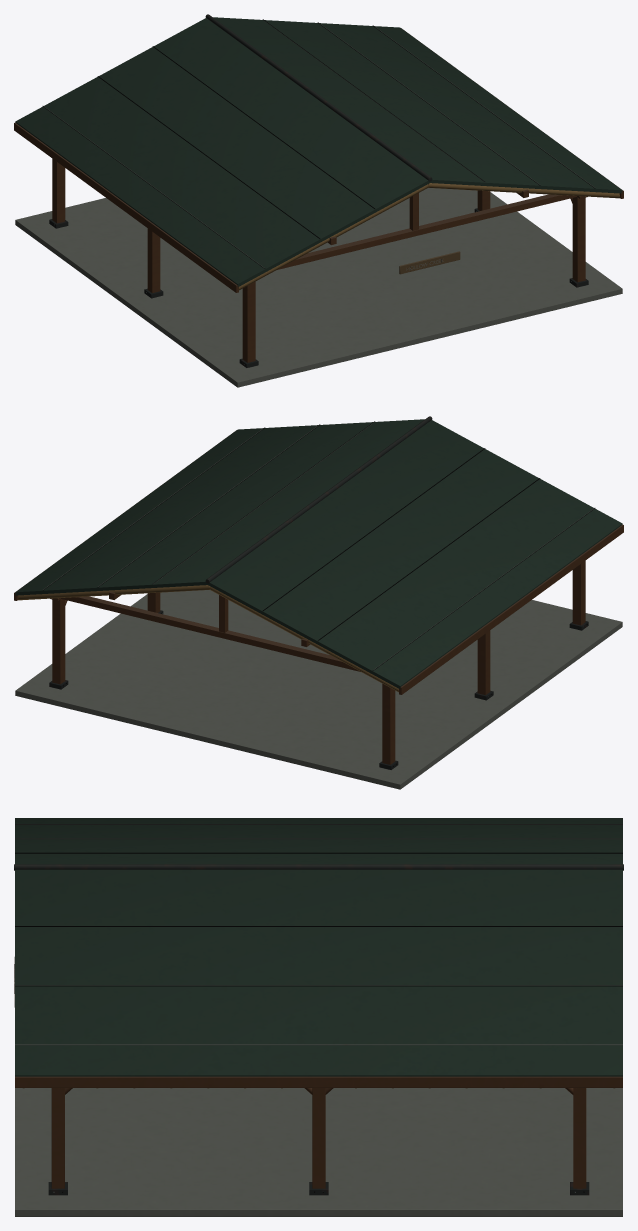
Rendered from level_camp_pavilion_authored.glb.
The picture shows the model from 3 angles, top to bottom: view 1: azimuth 30°, elevation 25°; view 2: azimuth 150°, elevation 25°; view 3: azimuth 270°, elevation 25°; orthographic projection. The views are drawn at different scales.
Visible parts, largest first — view 1: level_camp_pavilion_authored; view 2: level_camp_pavilion_authored; view 3: level_camp_pavilion_authored.
Boxes of the visible parts, x1,y1,x2,y2 form: level_camp_pavilion_authored: [14, 14, 623, 387]; level_camp_pavilion_authored: [14, 416, 623, 789]; level_camp_pavilion_authored: [14, 818, 623, 1216].
Size of the model in its own units: 14.1 by 5.68 by 14.04.
Materials: 1 (1 with a texture image).
